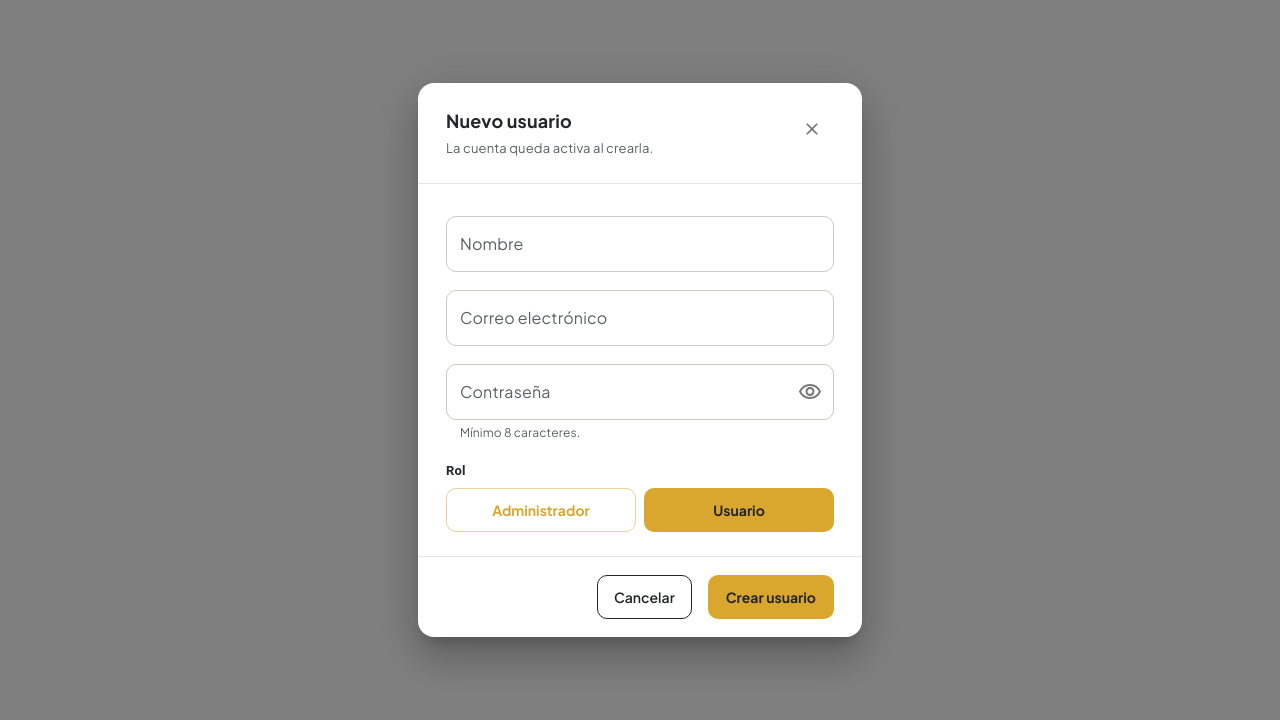
Test: UserFormDialog › sends ADMIN after toggling the role
The width and height of the screenshot is (1280, 720).
Click the button "Administrador".
click(541, 510)  # box [446, 488, 636, 532]
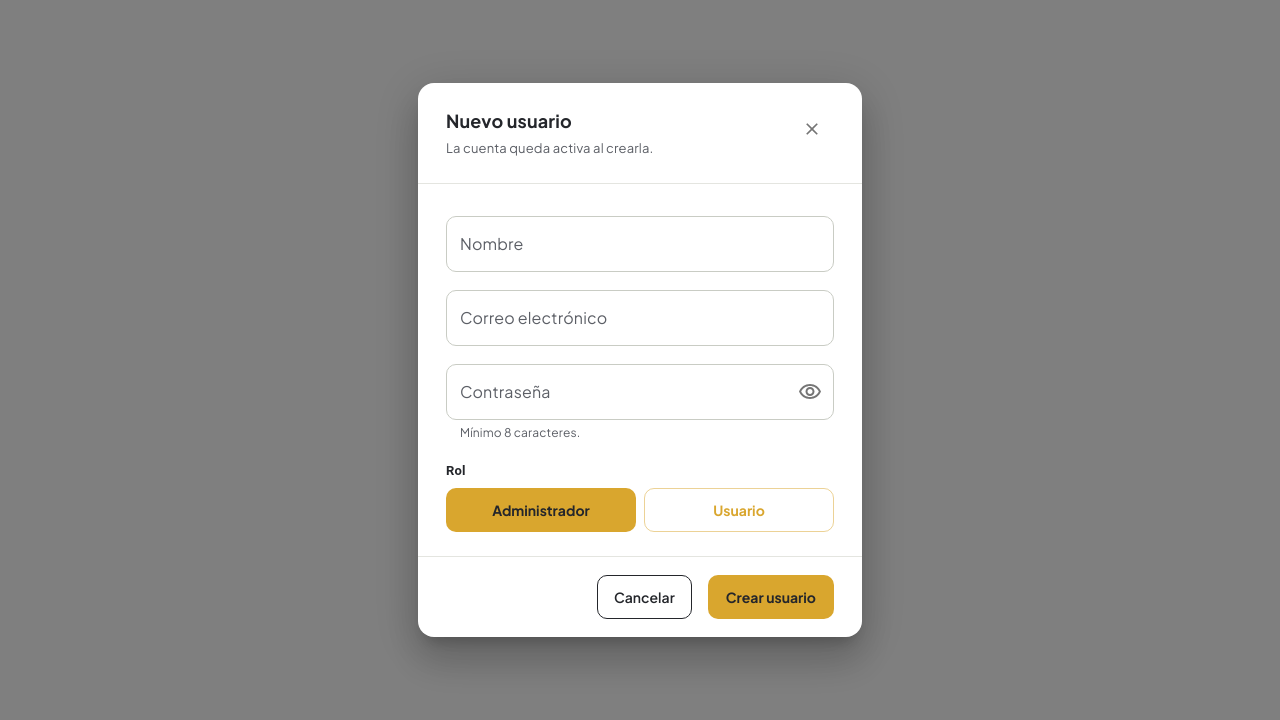
Result: the button "Administrador" is pressed at [446, 488, 636, 532]
Result: the button "Usuario" is not pressed at [644, 488, 834, 532]
Type "Ana" into the field labelled "Nombre".
click(640, 244); type("Ana")  # box [446, 216, 834, 272]
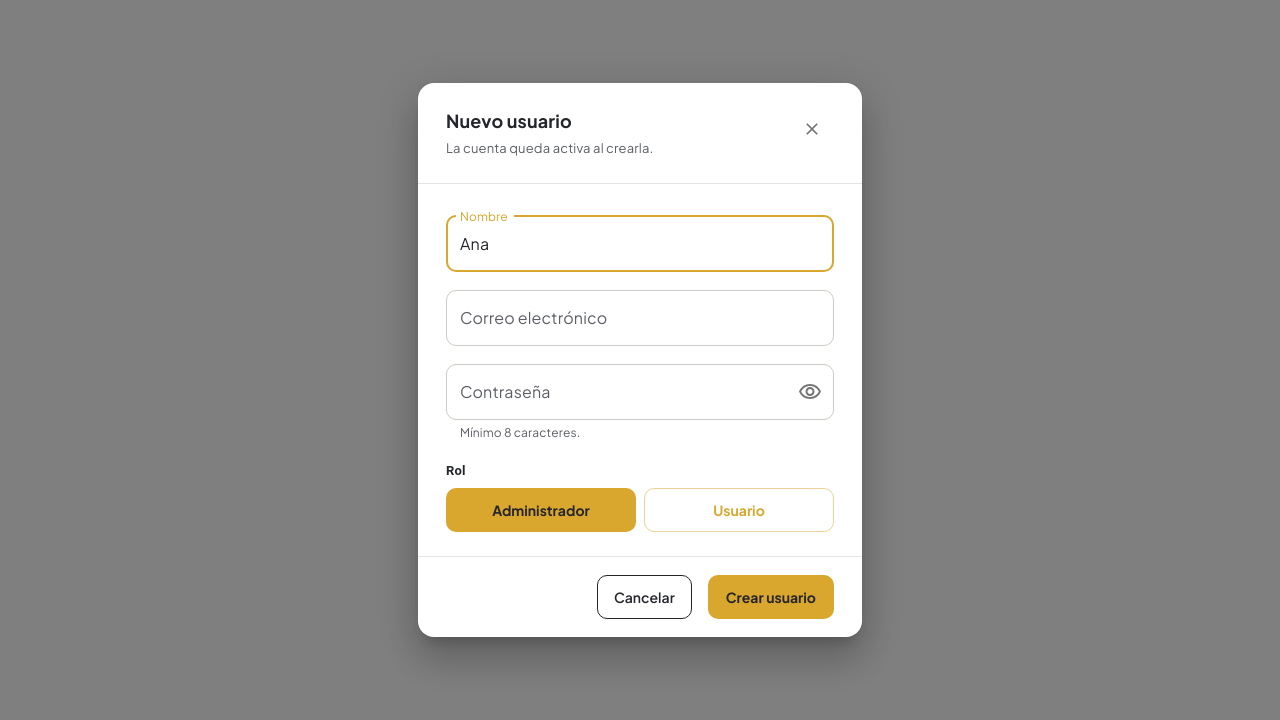
Type "ana@example.com" into the field labelled "Correo electrónico".
click(640, 318); type("ana@example.com")  # box [446, 290, 834, 346]
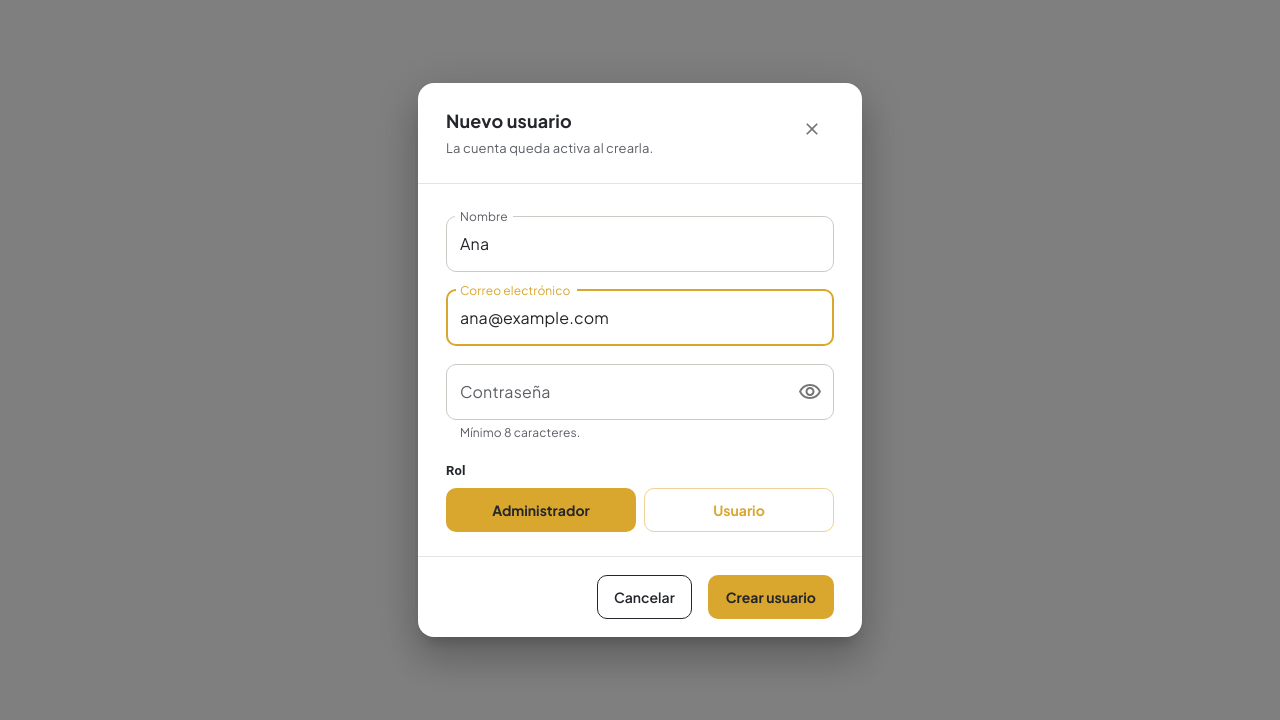
Type "12345678" into the password field labelled "Contraseña".
click(613, 392); type("12345678")  # box [446, 364, 780, 420]
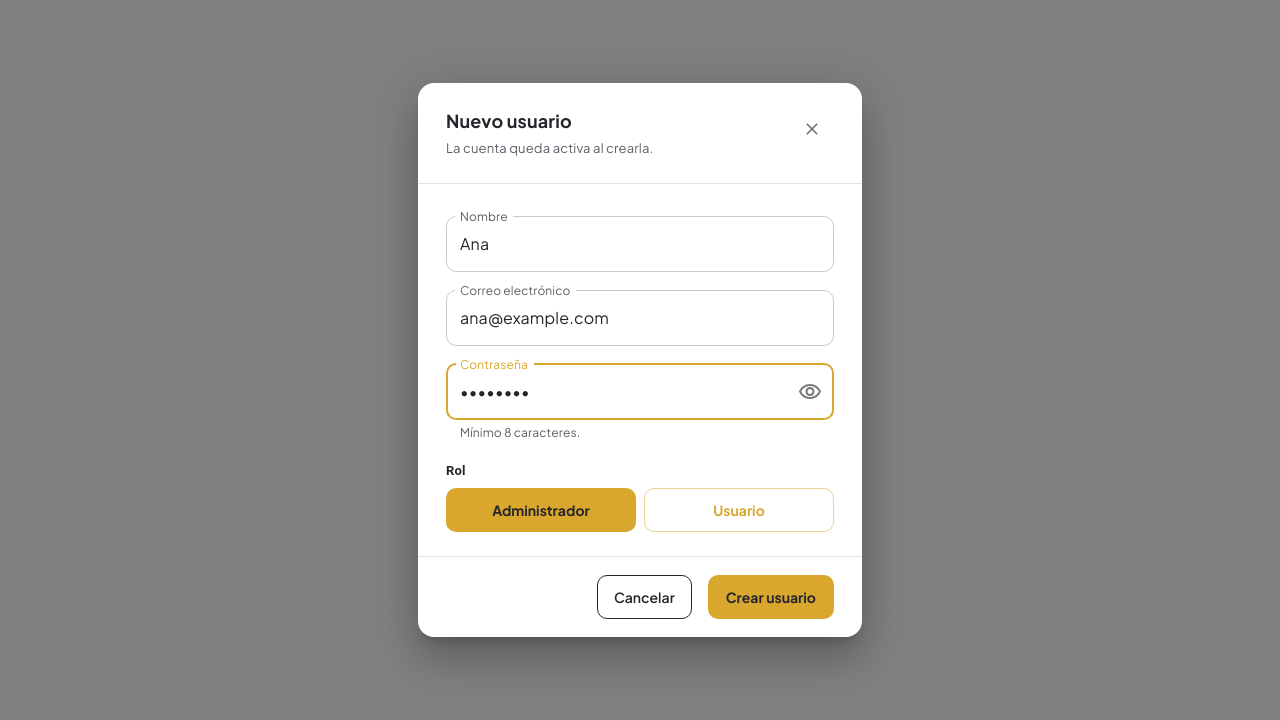
Click the button "Crear usuario".
click(771, 597)  # box [708, 575, 834, 619]
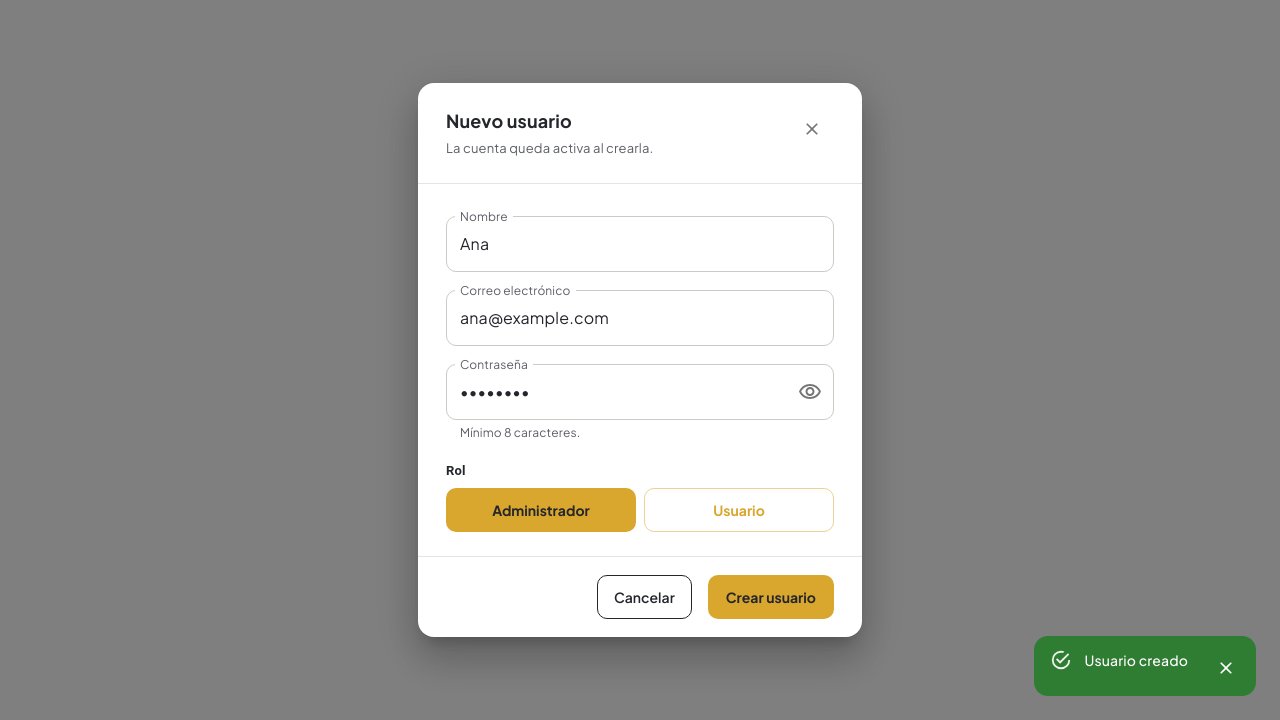
Result: the text "Usuario creado" is shown at [1084, 651, 1188, 669]
